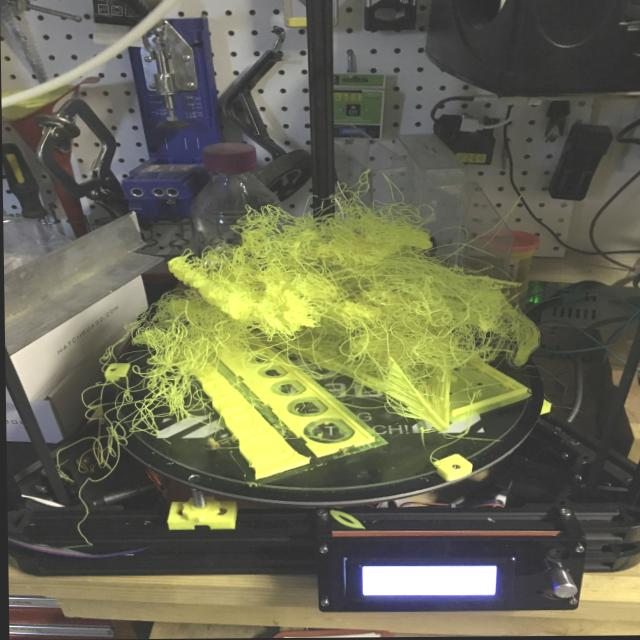spaghetti: (63, 132, 538, 469)
